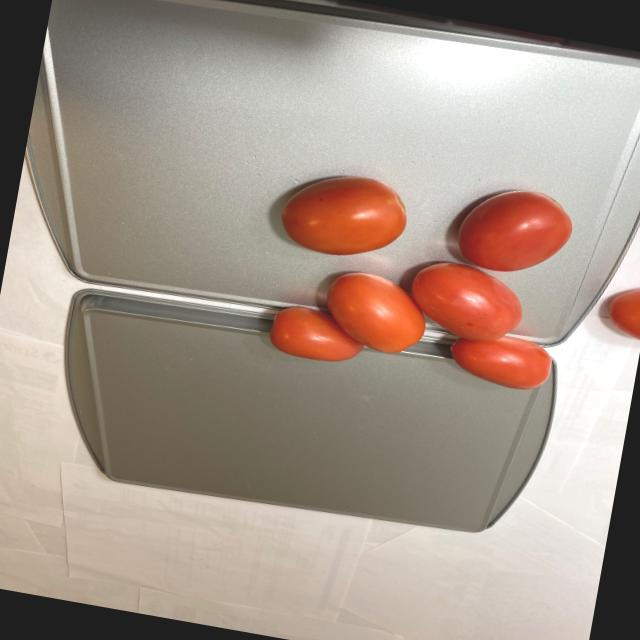tomato: (247, 149, 640, 412)
